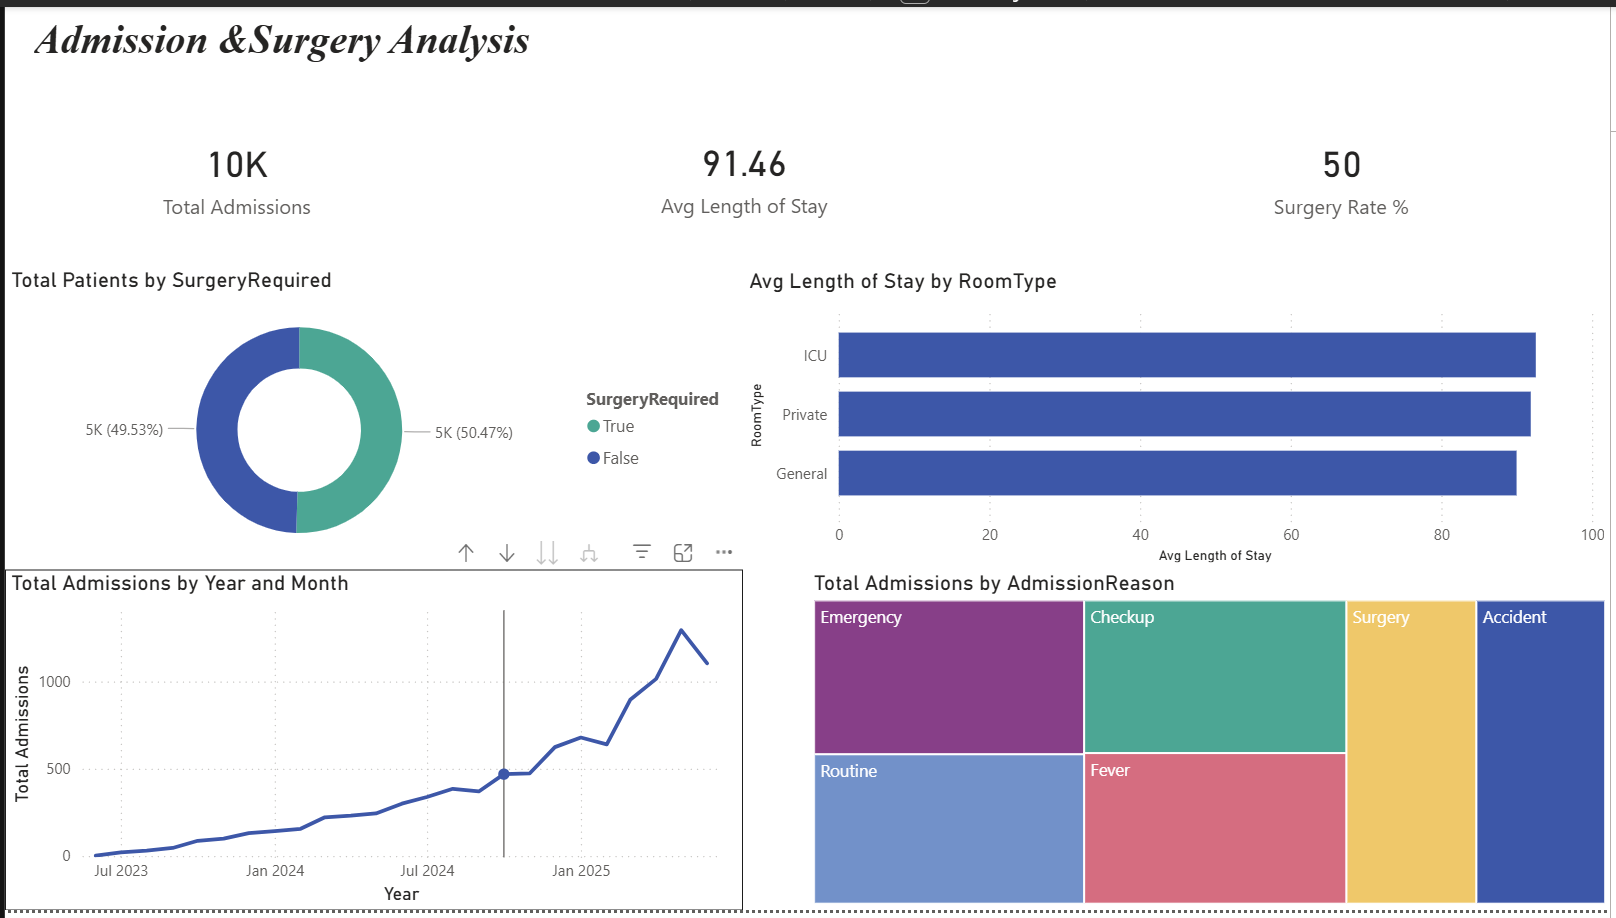

What the dashboard file says about the page in this screenshot:
{"tool":"powerbi","page":{"name":"Admission and Surgery","canvas":[1280,720],"ordinal":4},"visuals":[{"type":"textbox","box":[18.5,2.3,493.6,55.6],"z":0},{"type":"card","fields":{"Values":["_Measure.Total Admissions"]},"box":[0,58,369.1,150.9],"z":1000},{"type":"card","fields":{"Values":["_Measure.Avg Length of Stay"]},"box":[392.4,58,393.5,149.7],"z":2000},{"type":"card","fields":{"Values":["_Measure.Surgery Rate %"]},"box":[850.9,58,429.5,150.9],"z":3000},{"type":"donutChart","fields":{"Category":["Admission_Table.SurgeryRequired"],"Y":["_Measure.Total Patients"]},"box":[0,207.4,588.6,241],"z":4000},{"type":"barChart","fields":{"Y":["_Measure.Avg Length of Stay"],"Category":["Admission_Table.RoomType"]},"box":[588.6,208.6,691.8,239.9],"z":5000},{"type":"lineChart","fields":{"Y":["_Measure.Total Admissions"],"Category":["Admission_Table.AdmissionDate.Variation.Date Hierarchy.Year","Admission_Table.AdmissionDate.Variation.Date Hierarchy.Month"]},"box":[0,448.4,588.6,271.1],"z":6000},{"type":"treemap","fields":{"Group":["Admission_Table.AdmissionReason"],"Values":["_Measure.Total Admissions"]},"box":[639.6,448.4,640.8,271.1],"z":7000}]}

Visuals, with their boxes in screenshot pixels (x1, y1, x2, y2), scaled from the page's 1280x720 canvas onto the 1616x918 screenshot:
textbox: x1=23 y1=3 x2=647 y2=74
card - _Measure.Total Admissions: x1=0 y1=74 x2=466 y2=266
card - _Measure.Avg Length of Stay: x1=495 y1=74 x2=992 y2=265
card - _Measure.Surgery Rate %: x1=1074 y1=74 x2=1615 y2=266
donutChart - Admission_Table.SurgeryRequired x _Measure.Total Patients: x1=0 y1=264 x2=743 y2=572
barChart - _Measure.Avg Length of Stay x Admission_Table.RoomType: x1=743 y1=266 x2=1615 y2=572
lineChart - _Measure.Total Admissions x Admission_Table.AdmissionDate.Variation.Date Hierarchy.Year: x1=0 y1=572 x2=743 y2=917
treemap - Admission_Table.AdmissionReason x _Measure.Total Admissions: x1=807 y1=572 x2=1615 y2=917
